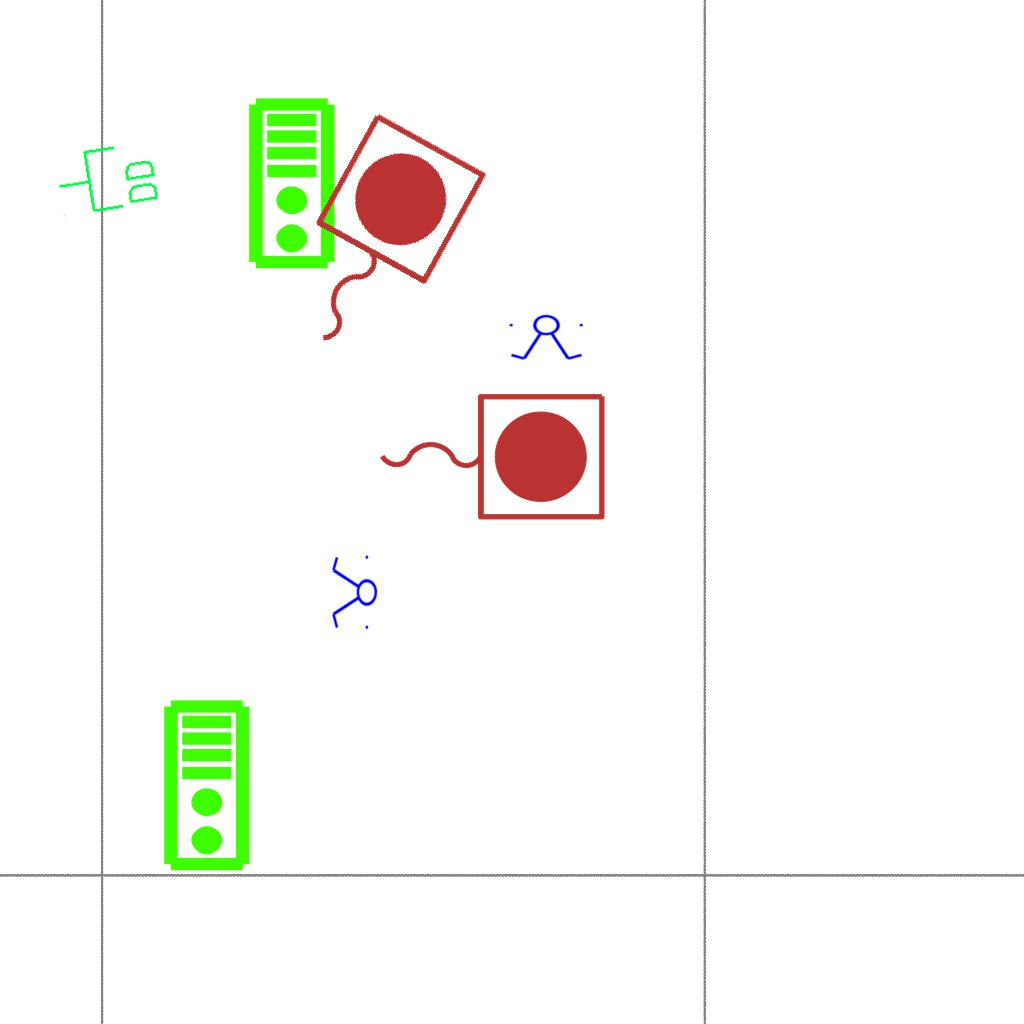Datenanschluss_zweifach: (51, 137, 164, 222)
Gegensprechanlage_mit_Video: (246, 96, 341, 272), (161, 698, 256, 874)
Serienschalter: (505, 314, 589, 362), (330, 551, 378, 635)
Zugtaster: (252, 100, 498, 384), (369, 383, 613, 527)
